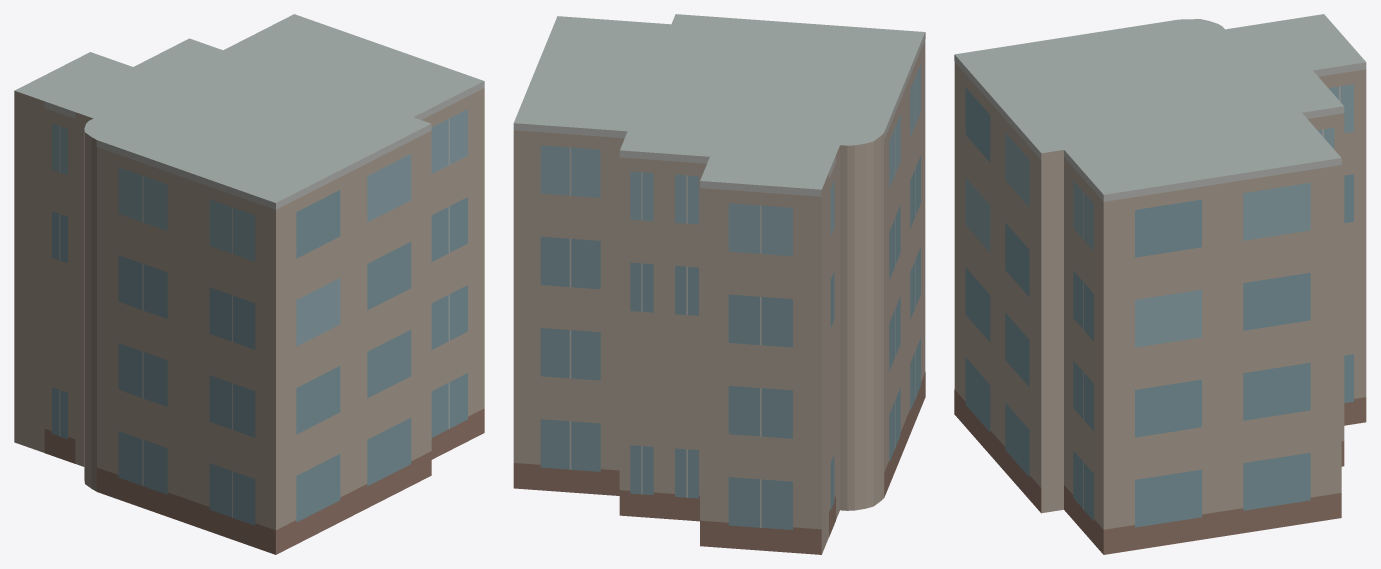
File: survey-upis-32858150.glb
3 renders of one model, left to right at view 1: azimuth 30°, elevation 25°; view 2: azimuth 150°, elevation 25°; view 3: azimuth 270°, elevation 25°, orthographic. The views are drawn at different scales.
Visible parts, largest first — view 1: survey-upis-32858150.tmp; view 2: survey-upis-32858150.tmp; view 3: survey-upis-32858150.tmp.
Boxes of the visible parts, <box> form: survey-upis-32858150.tmp: <box>14,14,484,554</box>; survey-upis-32858150.tmp: <box>513,14,925,554</box>; survey-upis-32858150.tmp: <box>954,14,1366,554</box>.
Size of the model in its own units: 13.54 by 12.55 by 13.03.
